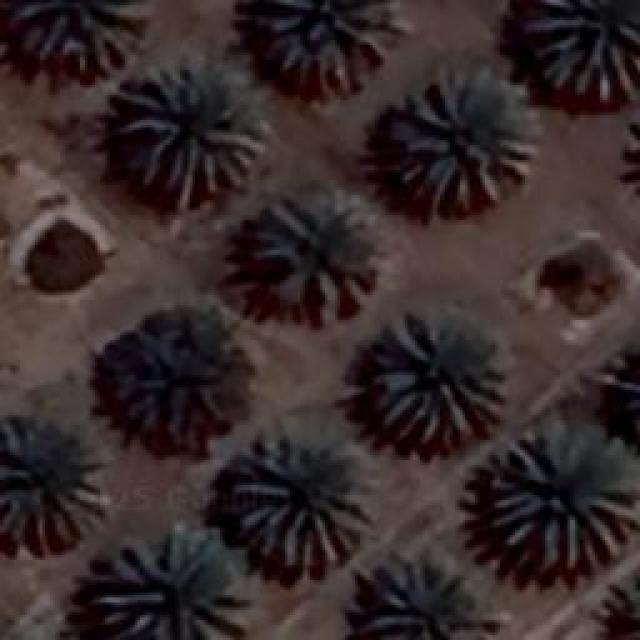PalmTree: (115, 105, 624, 602), (31, 76, 168, 382), (488, 425, 638, 573), (385, 68, 540, 210), (115, 59, 268, 202), (228, 432, 370, 572), (365, 318, 505, 450), (90, 528, 252, 638), (247, 190, 375, 312), (0, 415, 105, 550), (262, 0, 400, 95), (362, 552, 498, 638), (524, 0, 637, 102), (15, 0, 150, 70), (617, 330, 640, 452), (621, 330, 640, 452), (623, 92, 640, 220)
